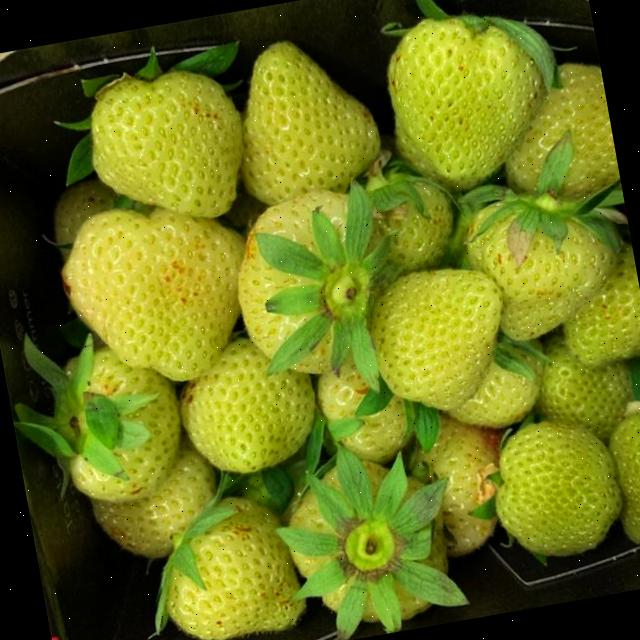strawberry: (51, 188, 264, 396), (226, 178, 412, 382), (378, 0, 563, 193), (79, 55, 258, 233), (218, 28, 388, 210), (458, 179, 628, 345), (146, 483, 313, 640), (362, 257, 520, 418), (479, 408, 632, 564), (171, 329, 324, 481), (488, 56, 620, 210)
